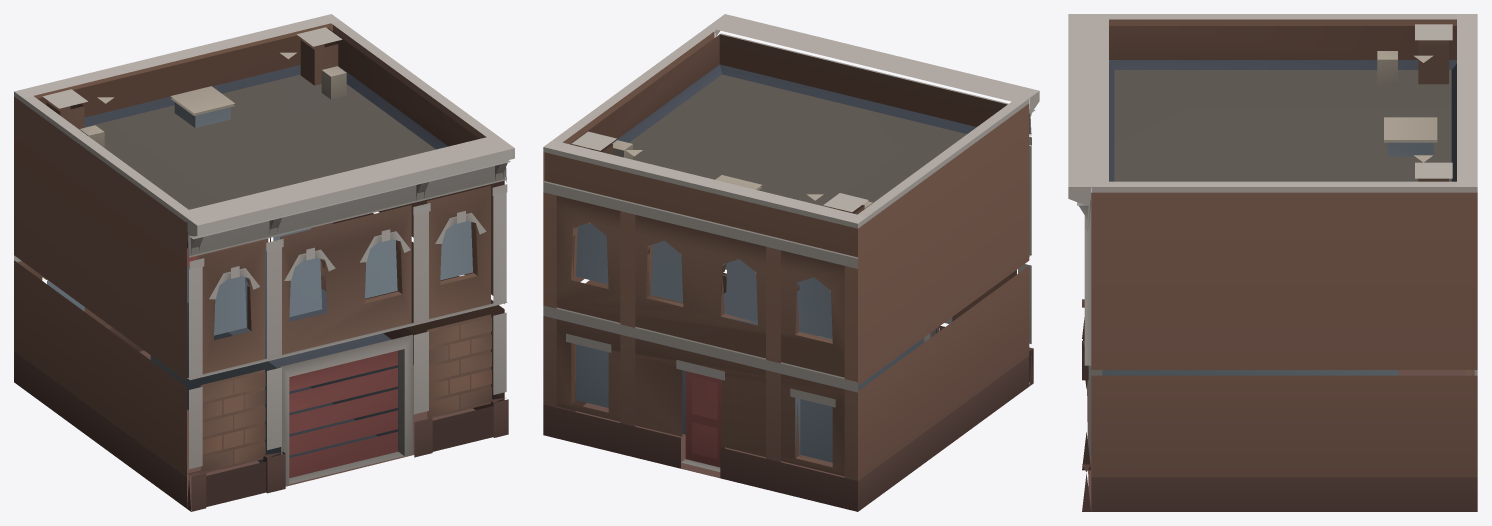
Rendered from firehouse.lod.glb.
3 renders of one model, left to right at view 1: azimuth 30°, elevation 25°; view 2: azimuth 150°, elevation 25°; view 3: azimuth 270°, elevation 25°, orthographic. The views are drawn at different scales.
Visible parts, largest first — view 1: firehouse; view 2: firehouse; view 3: firehouse.
Part boxes in pixels (<box>): firehouse: <box>14,14,514,511</box>; firehouse: <box>543,14,1039,511</box>; firehouse: <box>1068,14,1477,511</box>.
Size of the model in its own units: 8 by 7 by 8.
